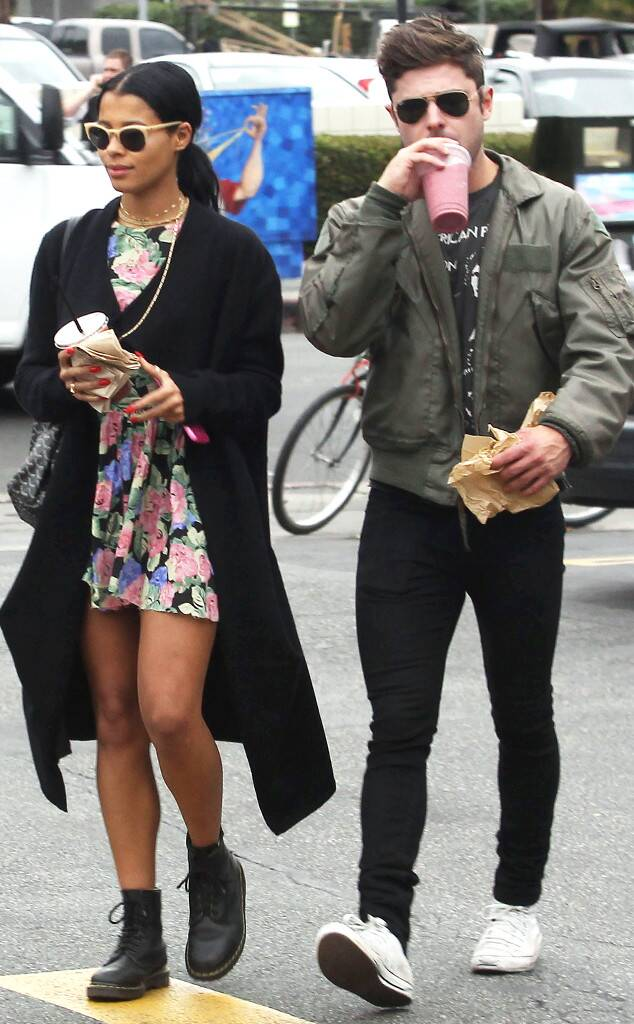Person: (297, 12, 634, 1010), (2, 59, 334, 1000)
